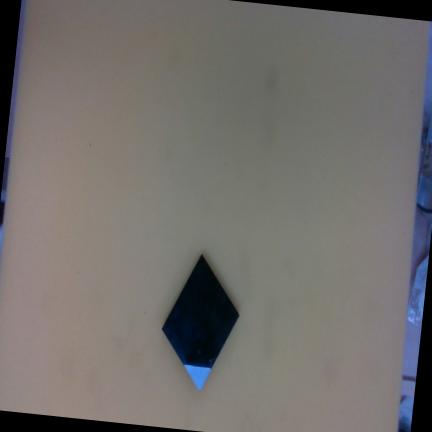tile: (143, 253, 256, 390)
